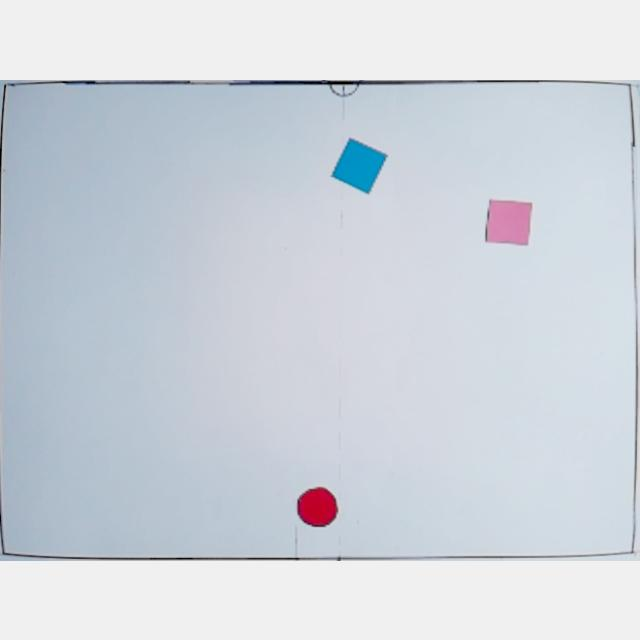blueSquare: (330, 137, 390, 193)
pinkSquare: (485, 198, 535, 246)
redCircle: (296, 484, 340, 528)
